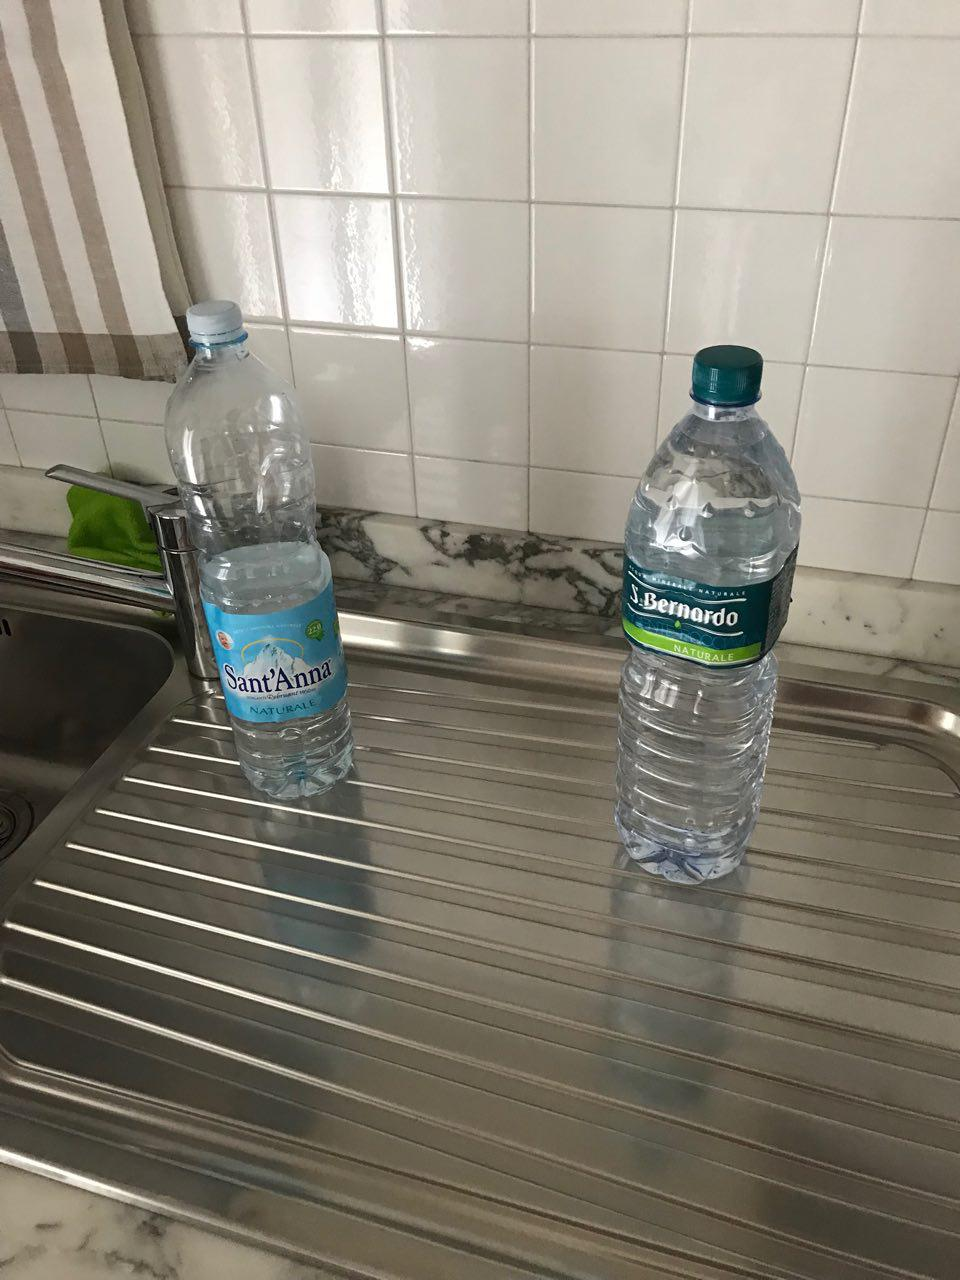san_bernardo: (614, 344, 802, 884)
